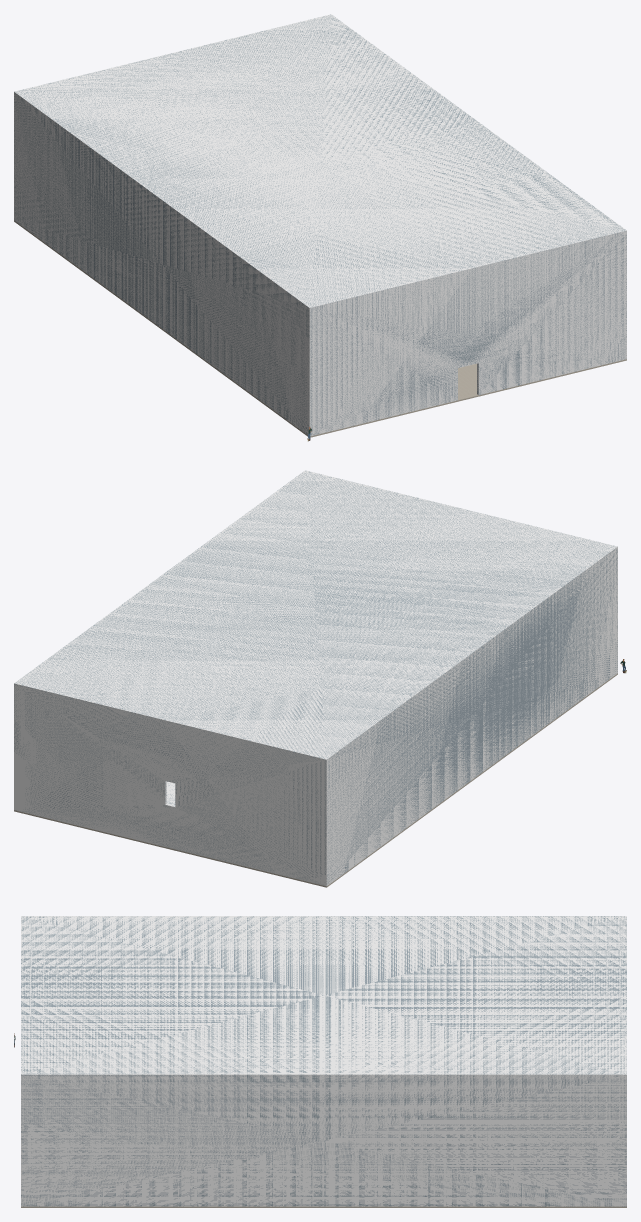
Rendered from FemtoMuseum.fbx.
3 views of the same model, one above another, from view 1: azimuth 30°, elevation 25°; view 2: azimuth 150°, elevation 25°; view 3: azimuth 270°, elevation 25° (orthographic). The views are drawn at different scales.
Visible parts, largest first — view 1: Ceiling, Walls1, Floor1; view 2: Ceiling, Walls1, Floor1; view 3: Ceiling, Walls1, Floor1.
Boxes of the visible parts, box(x1,y1,x2,y2) form: Ceiling: box(14, 14, 626, 308); Walls1: box(14, 14, 626, 436); Floor1: box(14, 220, 626, 437); Ceiling: box(14, 471, 617, 760); Walls1: box(14, 470, 617, 886); Floor1: box(14, 673, 617, 887); Ceiling: box(21, 916, 626, 1076); Walls1: box(21, 916, 626, 1206); Floor1: box(21, 1206, 626, 1207).
Bounding box in the file's own units: 1515 × 583 × 2428.
